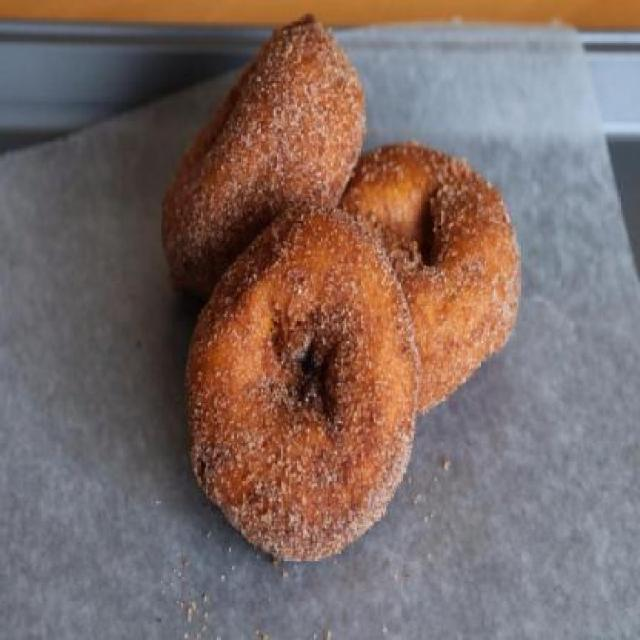Bagel: (178, 210, 448, 561)
